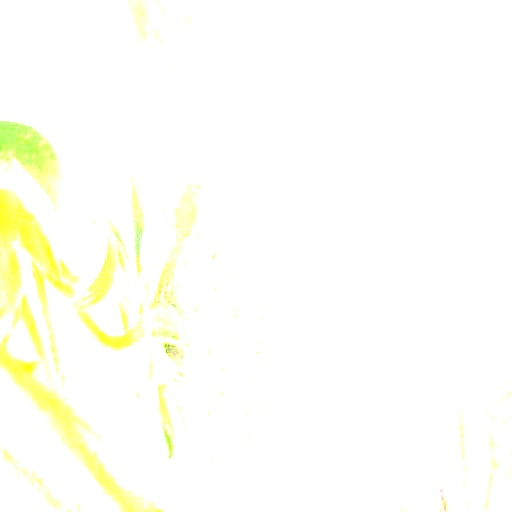Gray Mold: (153, 146, 386, 484)
